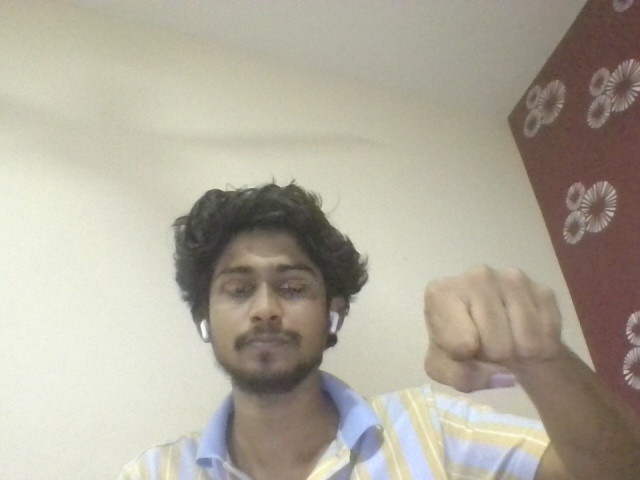yes: (410, 259, 581, 391)
